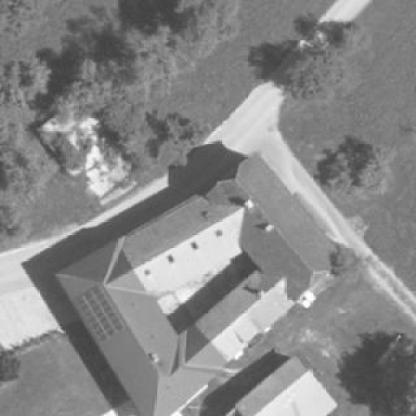solar-pv-panel: (73, 286, 125, 344)
